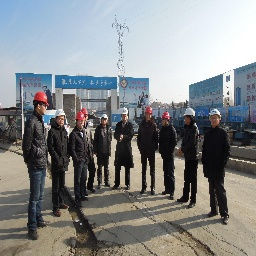helmet: (32, 91, 51, 108), (181, 106, 196, 120), (206, 108, 223, 119), (53, 108, 66, 120), (76, 108, 86, 123), (144, 105, 154, 116), (100, 113, 109, 122), (161, 112, 170, 120), (120, 108, 130, 115)
no-vest: (23, 114, 49, 174), (202, 126, 231, 177), (49, 125, 71, 175), (137, 119, 159, 155), (181, 124, 201, 162), (117, 121, 134, 162), (70, 128, 88, 166), (94, 127, 112, 161), (159, 126, 178, 158)
person: (22, 91, 49, 242), (202, 108, 231, 228), (49, 108, 72, 220), (178, 108, 201, 209), (69, 112, 92, 209), (136, 106, 159, 196), (113, 106, 136, 192), (159, 110, 178, 203), (94, 112, 113, 190)
